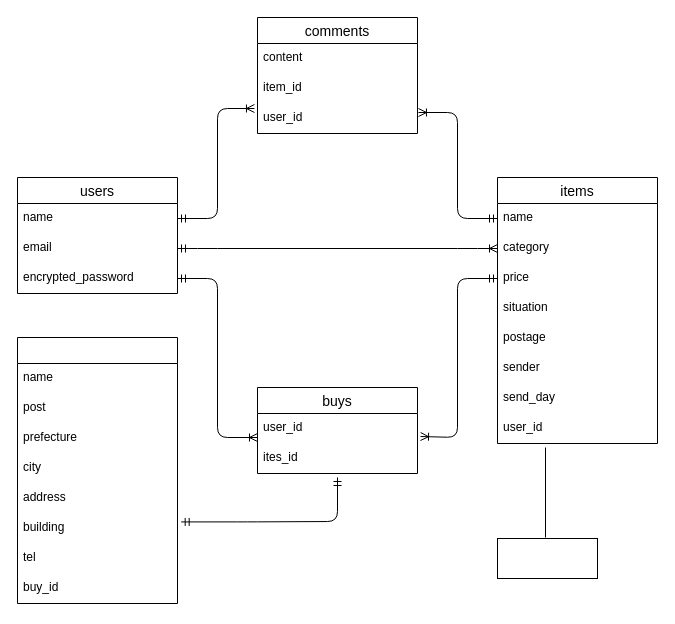
Image size: 675x624. Some labels were removed from this diagram. Here are the shapes that lost their labels. From the top down, the box of each, then its label:
(16, 336, 178, 604): addresses
(496, 538, 598, 578): image
